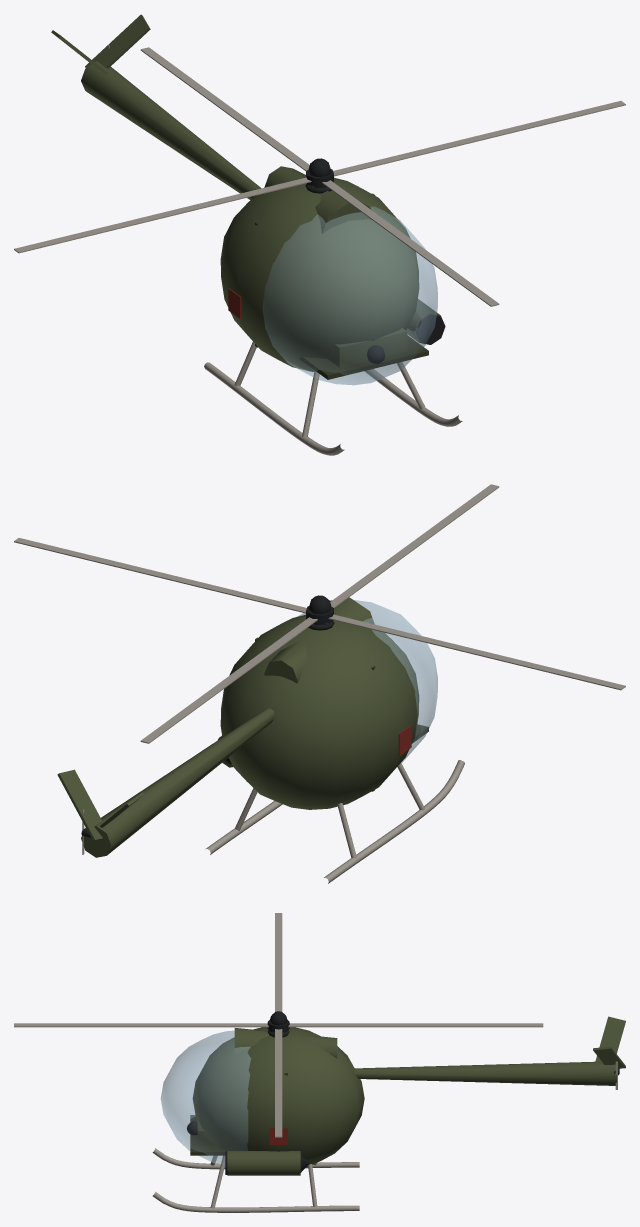
File: oh-6-cayuse-loach.glb
3 renders of one model, top to bottom at view 1: azimuth 30°, elevation 25°; view 2: azimuth 150°, elevation 25°; view 3: azimuth 270°, elevation 25°, orthographic. The views are drawn at different scales.
Visible parts, largest first — view 1: Mesh_FuselageBack, Mesh_CanopyGlass, Mesh_TailBoom, Mesh_BladeMaster, Mesh_Blade3, Mesh_Doghouse, Mesh_Blade2, Mesh_Blade4, Mesh_LowerChin, Mesh_CabinFloor, Mesh_SkidR, Mesh_TailFinL (+2 smaller); view 2: Mesh_FuselageBack, Mesh_TailBoom, Mesh_CanopyGlass, Mesh_BladeMaster, Mesh_Blade3, Mesh_Doghouse, Mesh_Blade4, Mesh_Blade2, Mesh_SkidR, Mesh_TailFinL, Mesh_SkidL; view 3: Mesh_FuselageBack, Mesh_CanopyGlass, Mesh_TailBoom, Mesh_RocketPodBody, Mesh_SkidL, Mesh_Blade4, Mesh_Blade2, Mesh_Doghouse, Mesh_Blade3, Mesh_BladeMaster, Mesh_SkidR, Mesh_TailFinR (+1 smaller).
Boxes of the visible parts, box(x1,y1,x2,y2) form: Mesh_FuselageBack: box(220, 177, 419, 371); Mesh_CanopyGlass: box(263, 207, 437, 385); Mesh_TailBoom: box(81, 61, 261, 199); Mesh_BladeMaster: box(14, 177, 311, 253); Mesh_Blade3: box(333, 101, 625, 176); Mesh_Doghouse: box(264, 166, 371, 233); Mesh_Blade2: box(322, 180, 499, 306); Mesh_Blade4: box(140, 47, 309, 170); Mesh_LowerChin: box(328, 328, 407, 367); Mesh_CabinFloor: box(299, 335, 428, 379); Mesh_SkidR: box(204, 362, 344, 455); Mesh_TailFinL: box(85, 14, 150, 68); Mesh_FuselageBack: box(220, 614, 419, 809); Mesh_TailBoom: box(81, 708, 274, 857); Mesh_CanopyGlass: box(297, 600, 437, 765); Mesh_BladeMaster: box(328, 614, 625, 690); Mesh_Blade3: box(14, 538, 306, 613); Mesh_Doghouse: box(264, 597, 374, 683); Mesh_Blade4: box(140, 617, 317, 743); Mesh_Blade2: box(330, 484, 499, 607); Mesh_SkidR: box(324, 760, 464, 883); Mesh_TailFinL: box(57, 769, 102, 841); Mesh_SkidL: box(205, 801, 282, 854); Mesh_FuselageBack: box(192, 1027, 364, 1166); Mesh_CanopyGlass: box(160, 1030, 250, 1164); Mesh_TailBoom: box(354, 1061, 616, 1085); Mesh_RocketPodBody: box(227, 1150, 300, 1175); Mesh_SkidL: box(152, 1191, 359, 1212); Mesh_Blade4: box(288, 1023, 543, 1027); Mesh_Blade2: box(14, 1023, 268, 1027); Mesh_Doghouse: box(234, 1028, 337, 1058); Mesh_Blade3: box(275, 1029, 282, 1137); Mesh_BladeMaster: box(275, 913, 282, 1011); Mesh_SkidR: box(152, 1148, 359, 1169); Mesh_TailFinR: box(595, 1016, 625, 1061).
Bounding box in the file's own units: 7.2 × 2.69 × 8.32.
2 materials, 2 textured.
